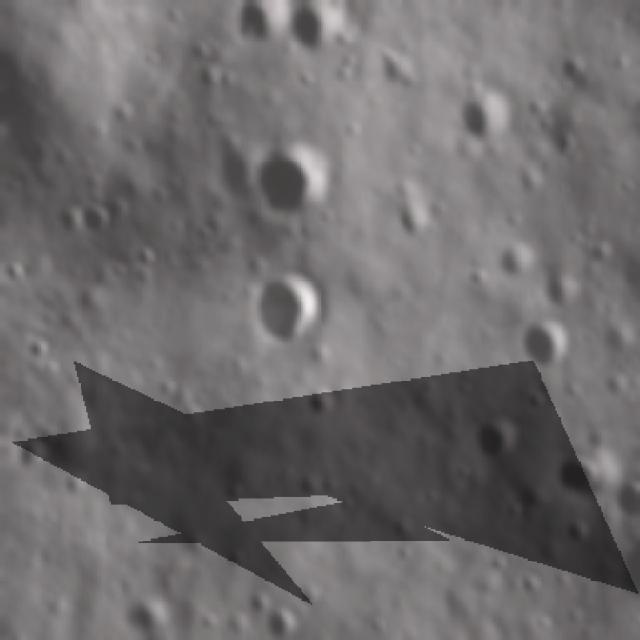crater: (240, 260, 328, 358), (244, 136, 338, 221), (281, 2, 356, 68), (196, 135, 256, 207), (446, 88, 511, 154), (513, 314, 578, 374), (464, 409, 524, 465), (228, 3, 286, 55), (548, 451, 600, 502), (494, 237, 543, 288), (534, 267, 584, 315), (120, 589, 166, 640), (296, 382, 346, 426), (540, 122, 585, 167), (9, 432, 53, 477), (69, 195, 114, 238), (553, 49, 590, 96), (590, 322, 635, 360), (264, 603, 296, 640), (128, 240, 160, 277), (610, 480, 638, 520), (559, 518, 596, 547)
